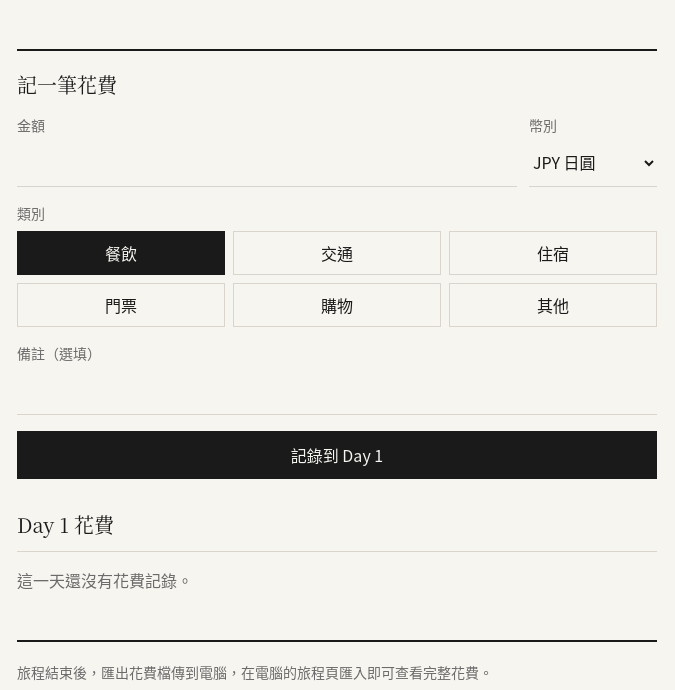
travel mode › shows an error instead of saving an invalid amount
(page scrolled)
Click the button "記錄到 Day 1" at (337,454), box x1=17 y1=430 x2=657 y2=478
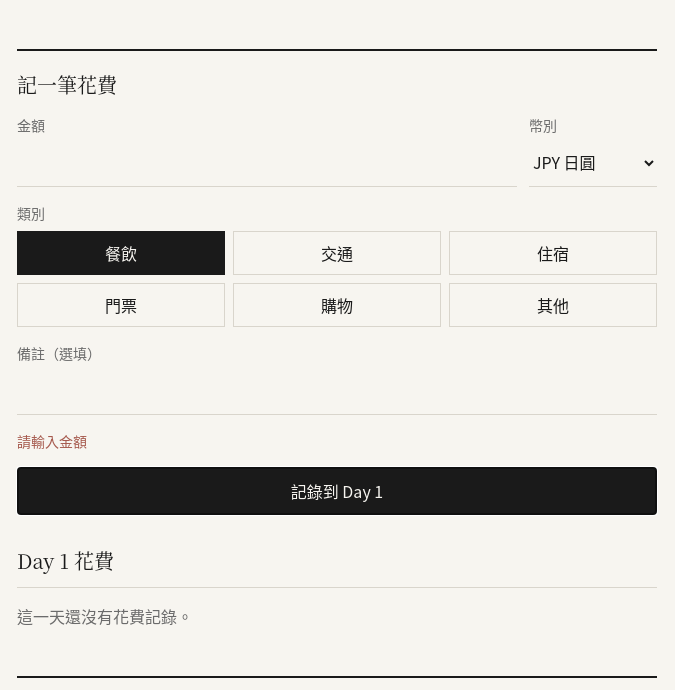
Check: the message reads "請輸入金額", box x1=17 y1=430 x2=87 y2=450
